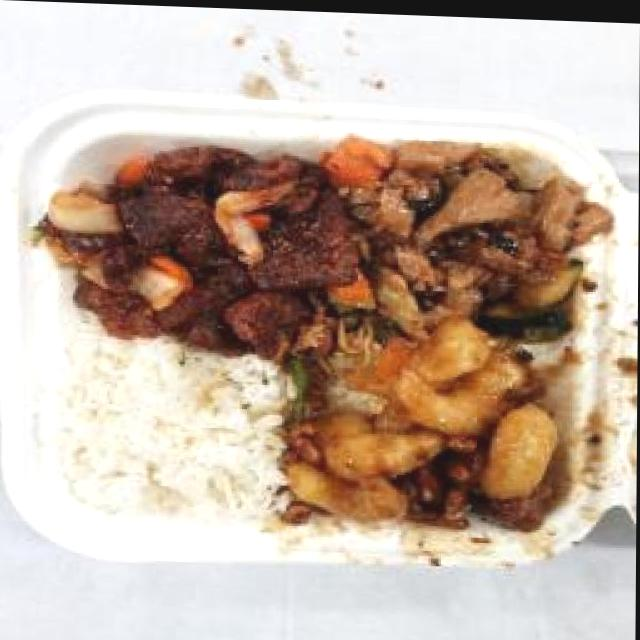Beijing Beef: (45, 128, 354, 355)
Honey Walnut Shrimp: (289, 311, 578, 533)
Kung Pao Chicken: (326, 130, 602, 361)
White Steamed Rice: (57, 345, 281, 521)
